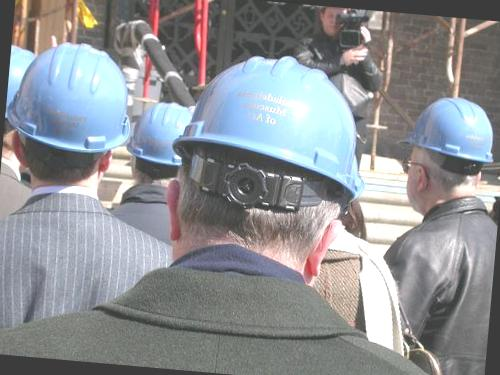person: (0, 32, 473, 375), (0, 41, 200, 318), (373, 90, 500, 375), (284, 4, 398, 212)
